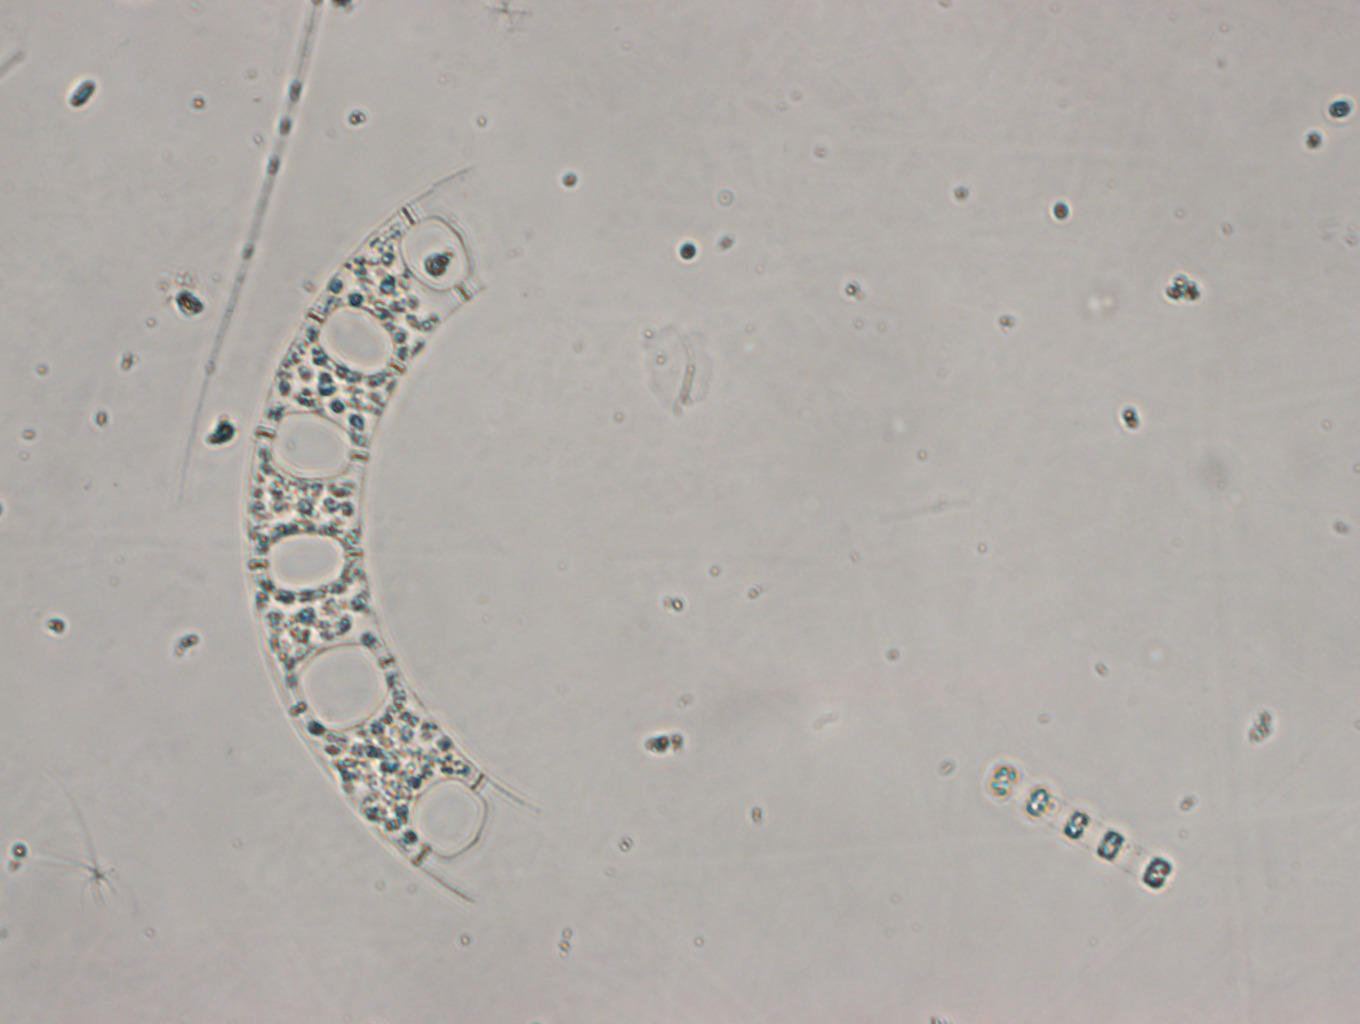eucampia: (242, 157, 538, 900)
skeletonema: (980, 758, 1176, 893)
